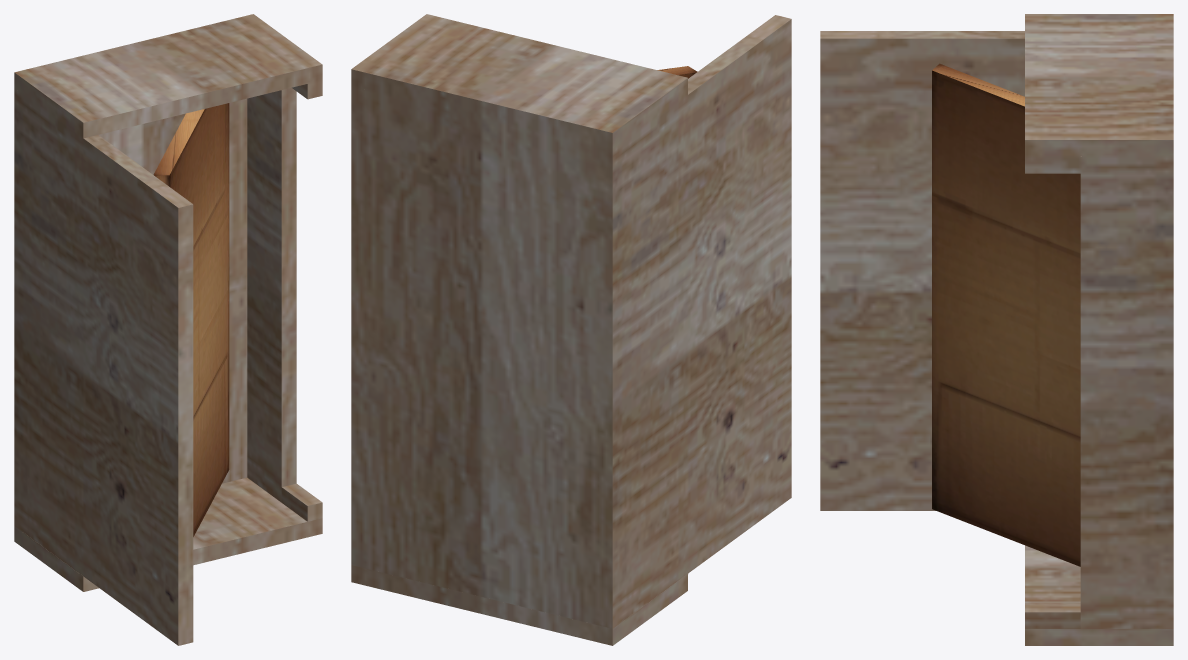
The model's file is box_holder_3.vmf.obj.
3 views of the same model, side by side, from view 1: azimuth 30°, elevation 25°; view 2: azimuth 150°, elevation 25°; view 3: azimuth 270°, elevation 25° (orthographic). The views are drawn at different scales.
Parts seen in each view (by area): view 1: 4, 9, 7, 5, 3, 2, 10; view 2: 3, 4, 9, 7, 2; view 3: 5, 4, 7, 9, 2, 10, 8.
Boxes of the visible parts, x1,y1,x2,y2 form: 4: (23,94,193,645); 9: (14,14,322,138); 7: (247,88,296,502); 5: (153,103,229,536); 3: (14,88,247,531); 2: (14,477,322,591); 10: (281,483,322,521); 3: (367,90,621,628); 4: (596,15,791,621); 9: (351,14,687,149); 7: (351,86,367,568); 2: (351,565,687,645); 5: (932,63,1080,566); 4: (820,31,1024,510); 7: (1080,156,1173,628); 9: (1025,14,1173,156); 2: (1025,545,1173,645); 10: (1025,604,1080,628); 8: (1025,156,1080,173).
Size of the model in its own units: 16.01 by 30 by 19.
2 materials, 2 textured.
